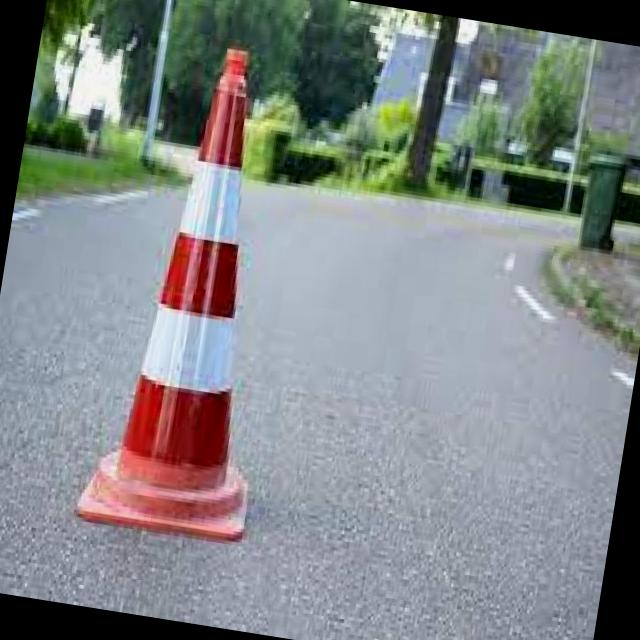Cone: (71, 31, 326, 550)
